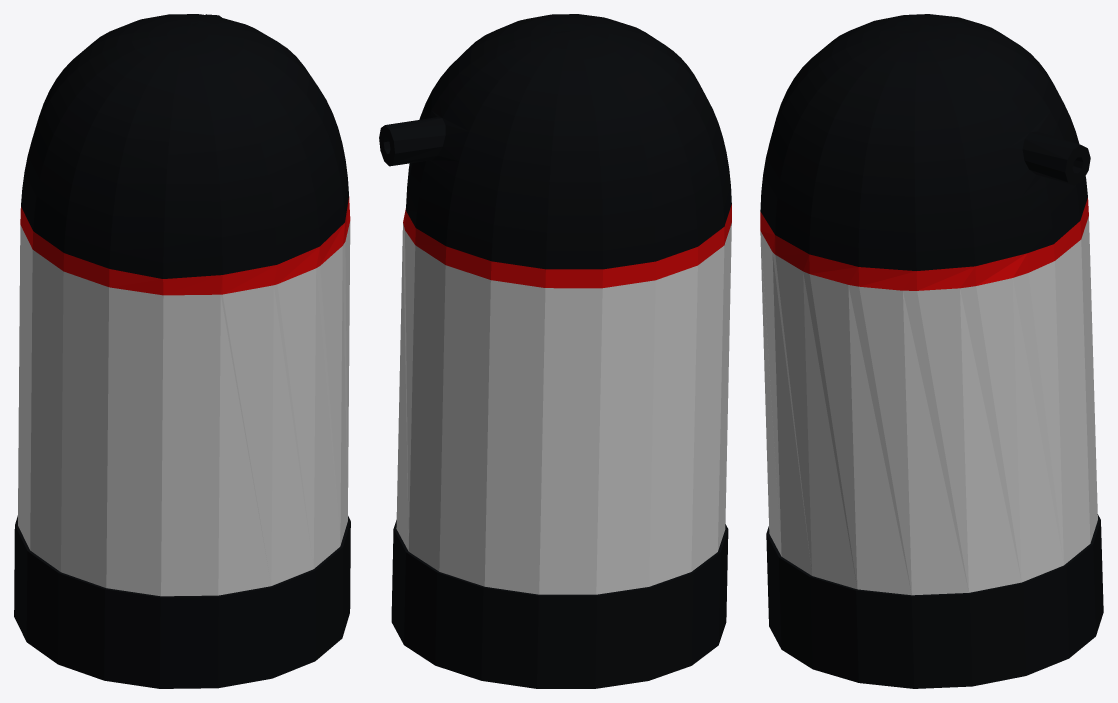
File: soysauce_bottle_black.dae
3 views of the same model, side by side, from view 1: azimuth 30°, elevation 25°; view 2: azimuth 150°, elevation 25°; view 3: azimuth 270°, elevation 25° (orthographic).
Parts seen in each view (by area): view 1: Soysauce_Bottle; view 2: Soysauce_Bottle; view 3: Soysauce_Bottle.
Part boxes in pixels (bbox=[...]): Soysauce_Bottle: bbox=[14, 14, 350, 688]; Soysauce_Bottle: bbox=[379, 14, 731, 688]; Soysauce_Bottle: bbox=[760, 14, 1103, 688].
Bounding box in the file's own units: 55.63 × 57.39 × 109.
